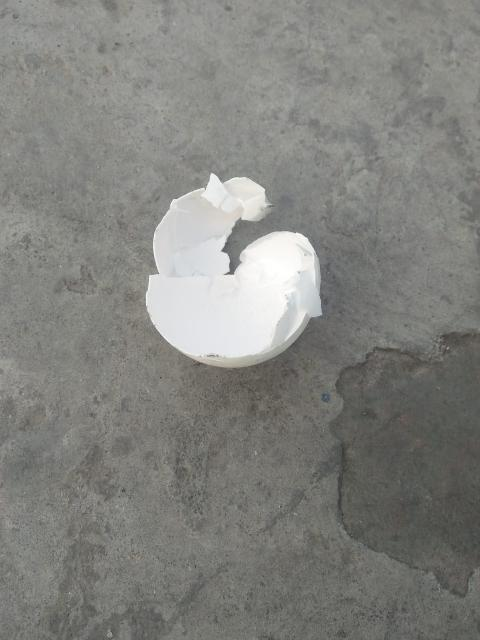Roto: (144, 172, 323, 368)
